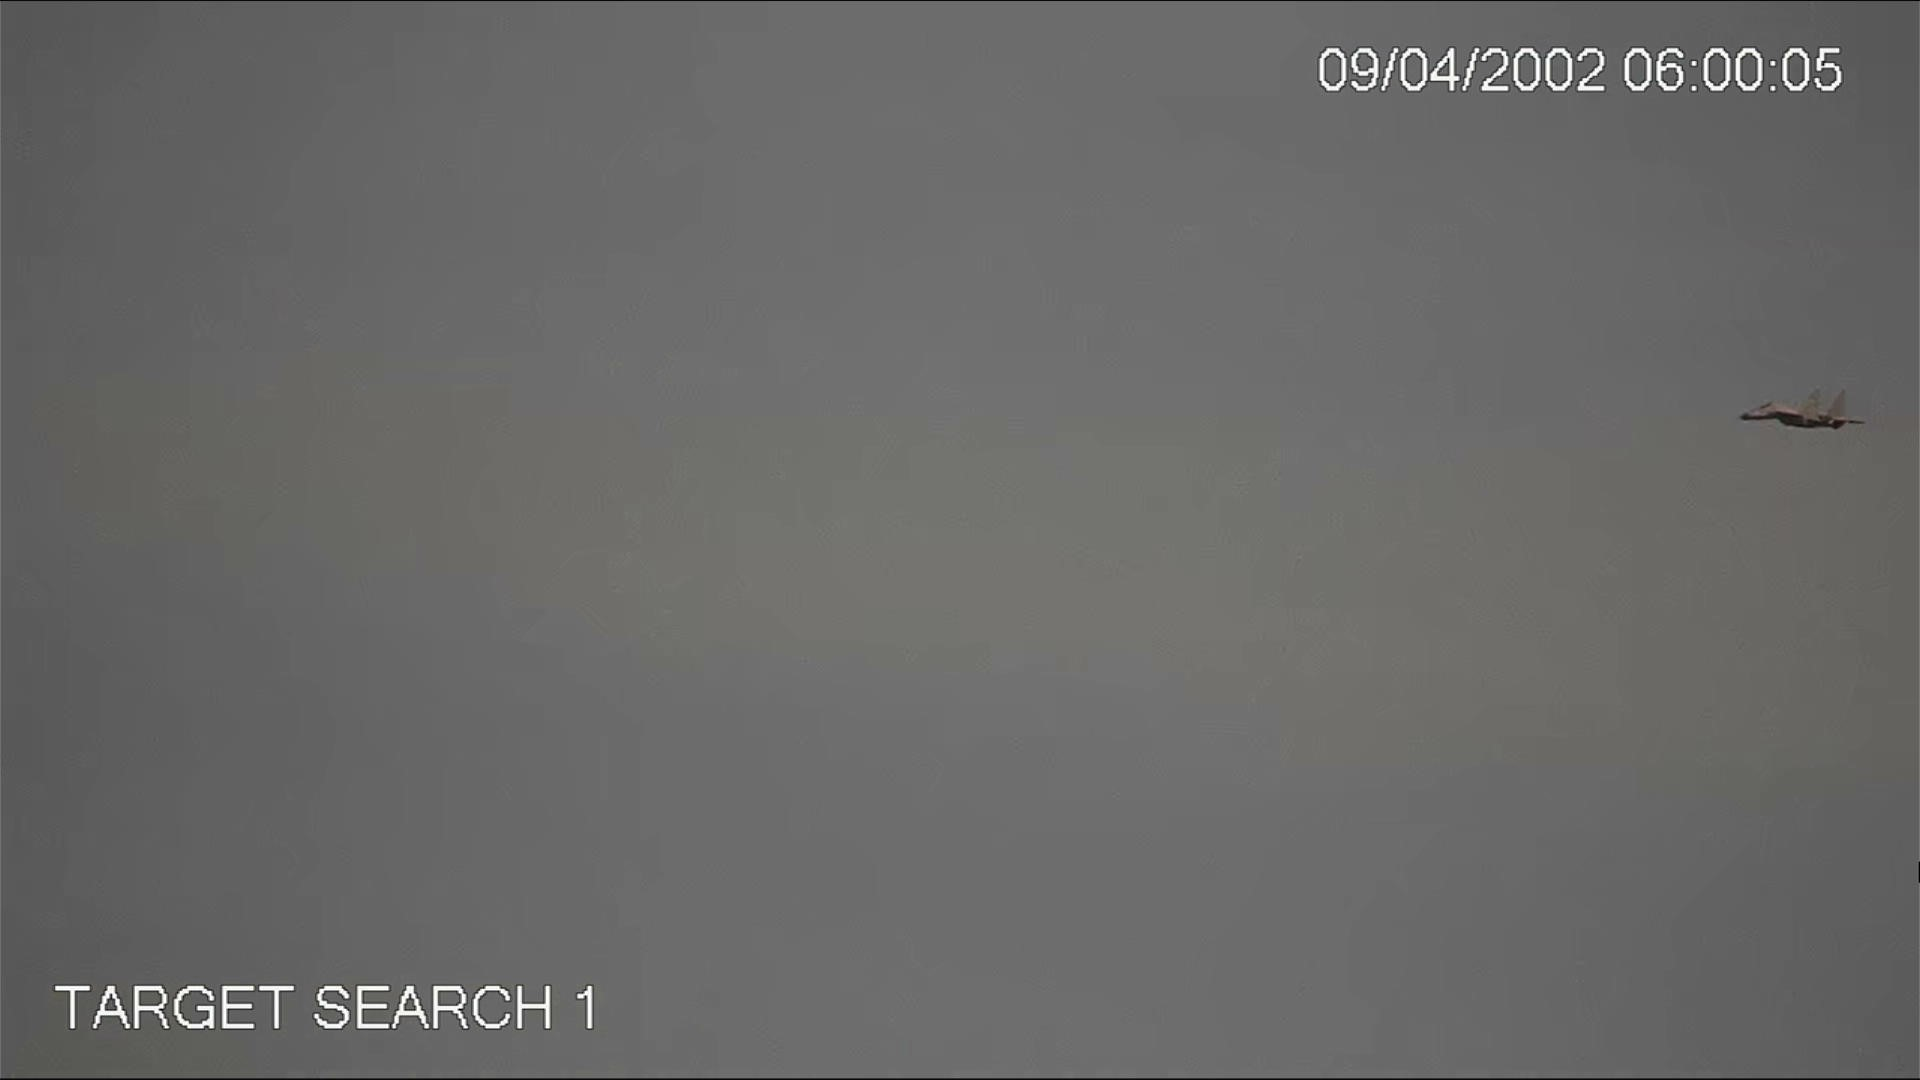SU_30: (1734, 389, 1869, 436)
